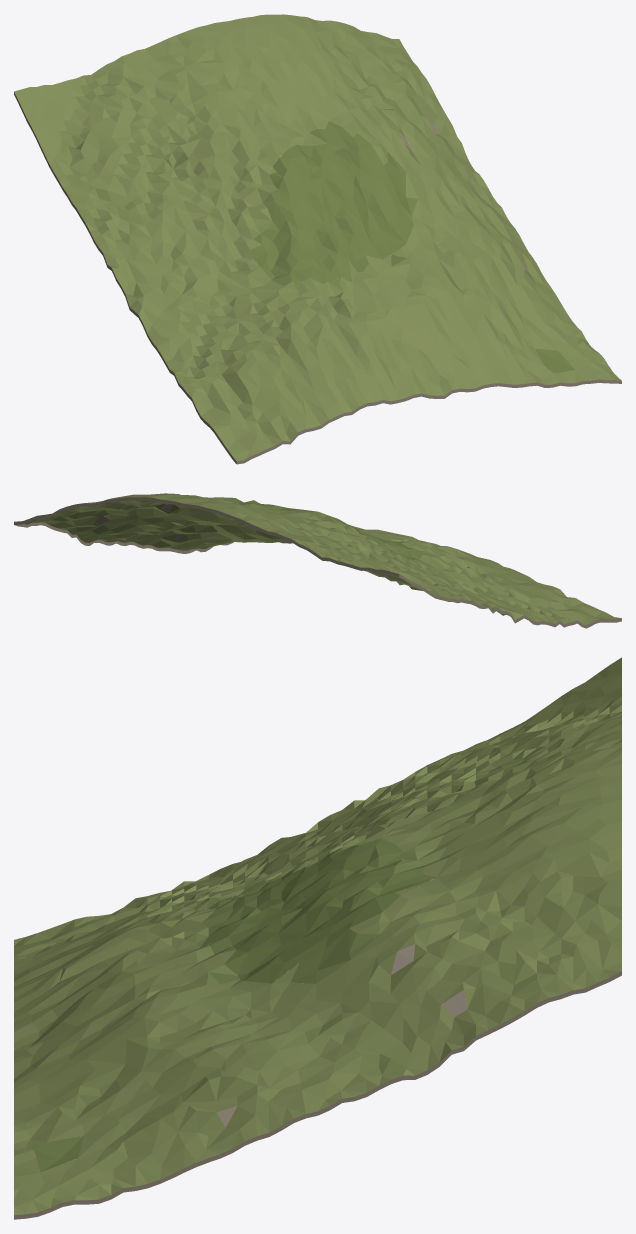
File: parca_+6_-7-uzak.glb
3 views of the same model, one above another, from view 1: azimuth 30°, elevation 25°; view 2: azimuth 150°, elevation 25°; view 3: azimuth 270°, elevation 25° (orthographic). The views are drawn at different scales.
Parts seen in each view (by area): view 1: parca_+6_-7_arazi_uzak; view 2: parca_+6_-7_arazi_uzak; view 3: parca_+6_-7_arazi_uzak.
Part boxes in pixels (left/top/right/bottom): parca_+6_-7_arazi_uzak: left=14, top=14, right=621, bottom=464; parca_+6_-7_arazi_uzak: left=14, top=493, right=621, bottom=628; parca_+6_-7_arazi_uzak: left=14, top=657, right=621, bottom=1219.
Size of the model in its own units: 1000 by 603 by 1000.
